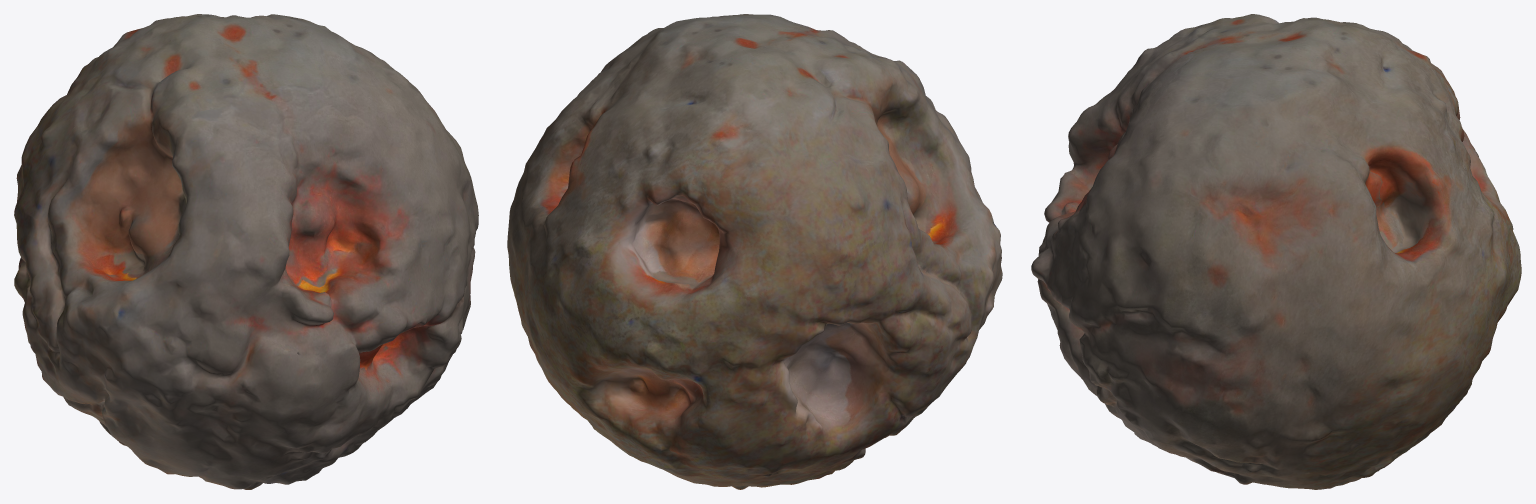
File: asteroid.obj
3 views of the same model, side by side, from view 1: azimuth 30°, elevation 25°; view 2: azimuth 150°, elevation 25°; view 3: azimuth 270°, elevation 25° (orthographic).
Parts seen in each view (by area): view 1: file1; view 2: file1; view 3: file1.
Boxes of the visible parts, left/top/right/bottom form: file1: left=14, top=14, right=478, bottom=489; file1: left=507, top=14, right=1002, bottom=489; file1: left=1031, top=14, right=1521, bottom=489.
Bounding box in the file's own units: 1.95 × 1.96 × 2.
1 material, 1 textured.
